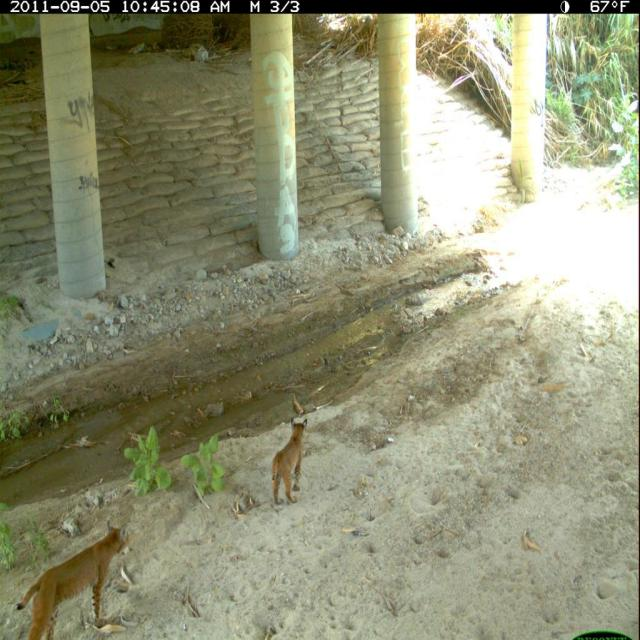bobcat: (13, 517, 137, 640), (268, 416, 314, 510)
